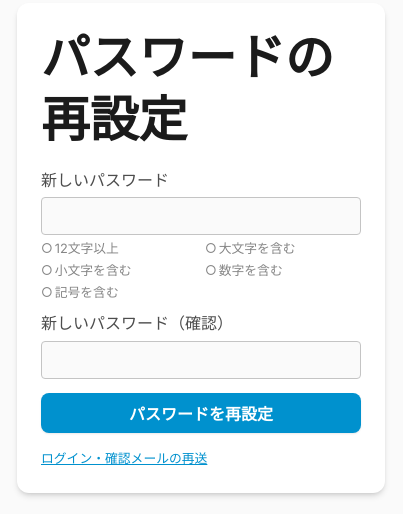
Test: reset password page › フラグメントから取得したuserId・tokenで再設定し、成功後はハッシュを消去する
Type "Password-123!ABC" into the password field labelled "新しいパスワード" at (201, 216), box [41,197,361,235]
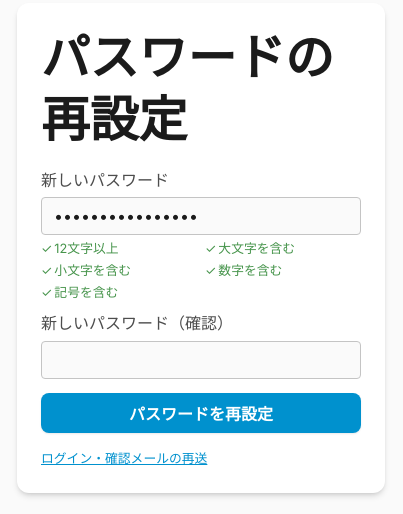
Type "Password-123!ABC" into the password field labelled "新しいパスワード（確認）" at (201, 360), box [41,341,361,379]
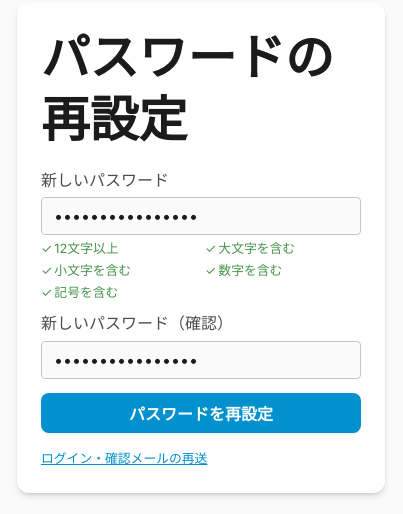
Click the button "パスワードを再設定" at (201, 413), box [41,393,361,433]
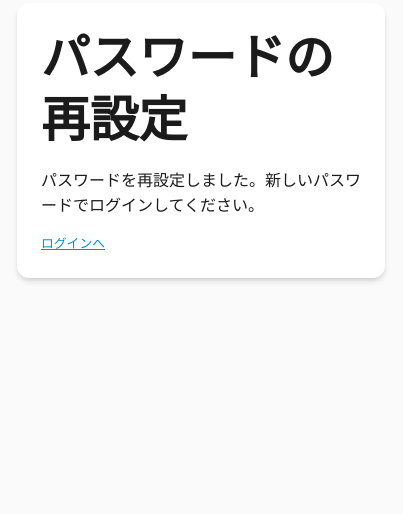
Now the message shows "パスワードを再設定しました", box [41,170,361,215]
